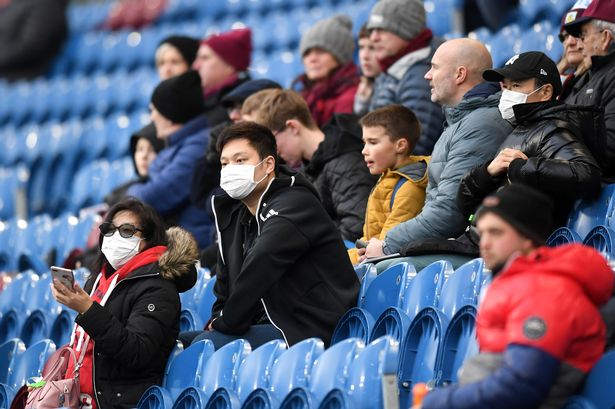with_mask: (217, 149, 263, 194), (503, 71, 532, 126), (98, 219, 135, 256)
without_mask: (361, 126, 387, 175), (423, 57, 447, 104), (368, 20, 395, 57), (577, 22, 598, 64), (137, 137, 156, 174), (306, 42, 326, 77), (359, 38, 377, 74), (194, 48, 212, 83)
